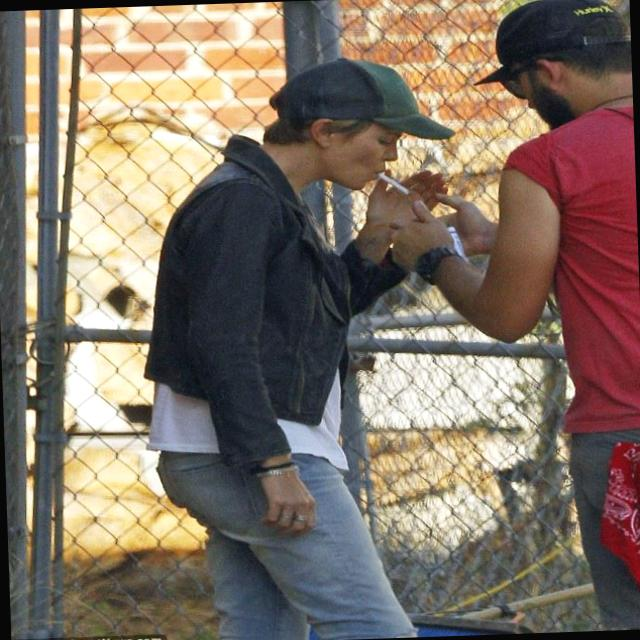smoke: (367, 167, 421, 204)
